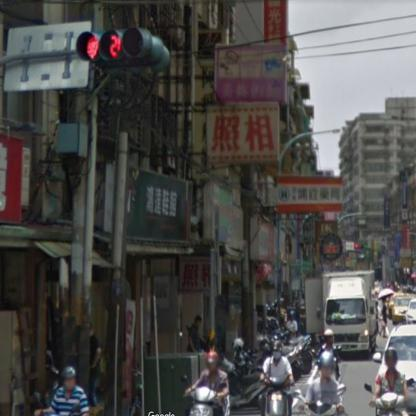Red Light: (78, 29, 170, 67)
